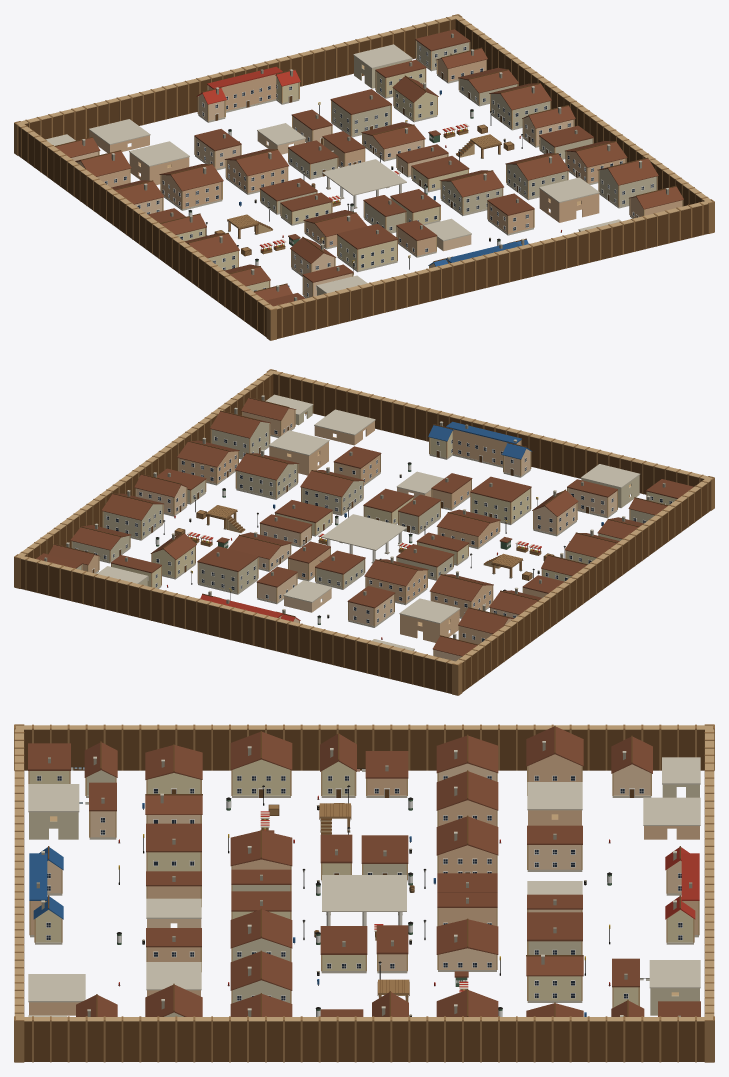
The model's file is feira.glb.
3 renders of one model, top to bottom at view 1: azimuth 30°, elevation 25°; view 2: azimuth 150°, elevation 25°; view 3: azimuth 270°, elevation 25°, orthographic. The views are drawn at different scales.
Visible parts, largest first — view 1: map_wood_dark.001, map_roof_slate.001, map_wood_light.001, map_wood.001, map_stone.001, map_wall_2.001, map_wall_3.001, map_wall_1.001, map_wall_0.001, map_trim.001, map_hw_e0b890.001, map_glass.001 (+5 smaller); view 2: map_wood_dark.001, map_roof_slate.001, map_stone.001, map_wood.001, map_wood_light.001, map_wall_2.001, map_wall_3.001, map_wall_0.001, map_wall_1.001, map_trim.001, map_hw_e0b890.001, map_glass.001 (+5 smaller); view 3: map_roof_slate.001, map_wood_dark.001, map_stone.001, map_wood_light.001, map_wood.001, map_wall_1.001, map_wall_3.001, map_wall_0.001, map_wall_2.001, map_hw_d2c6a6.001, map_trim.001, map_hw_e0b890.001 (+5 smaller).
Boxes of the visible parts, x1,y1,x2,y2 form: map_wood_dark.001: (18,19,708,338); map_roof_slate.001: (55,29,683,306); map_wood_light.001: (16,15,712,309); map_wood.001: (14,14,714,340); map_stone.001: (45,44,668,298); map_wall_2.001: (261,41,656,232); map_wall_3.001: (76,59,681,262); map_wall_1.001: (176,68,467,291); map_wall_0.001: (71,94,573,297); map_trim.001: (104,46,653,297); map_hw_e0b890.001: (89,130,599,231); map_glass.001: (105,47,653,296); map_wood_dark.001: (20,374,710,693); map_roof_slate.001: (36,398,693,656); map_stone.001: (66,394,650,650); map_wood.001: (14,369,714,695); map_wood_light.001: (16,370,712,664); map_wall_2.001: (72,422,654,592); map_wall_3.001: (82,408,547,644); map_wall_0.001: (136,449,616,661); map_wall_1.001: (112,431,677,588); map_trim.001: (75,423,672,641); map_hw_e0b890.001: (269,421,459,651); map_glass.001: (75,424,671,641); map_roof_slate.001: (28,726,700,1016); map_wood_dark.001: (24,725,704,1061); map_stone.001: (28,741,700,1016); map_wood_light.001: (14,725,714,1021); map_wood.001: (14,724,714,1062); map_wall_1.001: (29,759,692,1007); map_wall_3.001: (31,754,697,961); map_wall_0.001: (47,763,681,970); map_wall_2.001: (87,770,581,1016); map_hw_d2c6a6.001: (29,784,699,1015); map_trim.001: (36,775,682,1000); map_hw_e0b890.001: (29,810,699,1015).
Size of the model in its own units: 156 by 12.2 by 156.
